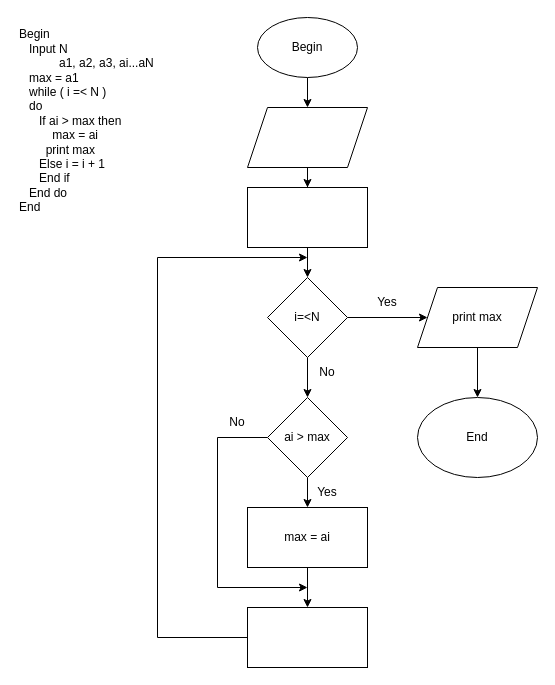
Some shapes in this 555 by 685 pixel diagram are drawn without their labels. The shapes that lost their labels are listed below. From the top down, each one's centre as x and y in pixels, then its label:
At point (307, 137): "N a1,a2,a3,ai...aN".
At point (307, 217): "max = a1 i = 2".
At point (307, 637): "i = i + 1".
